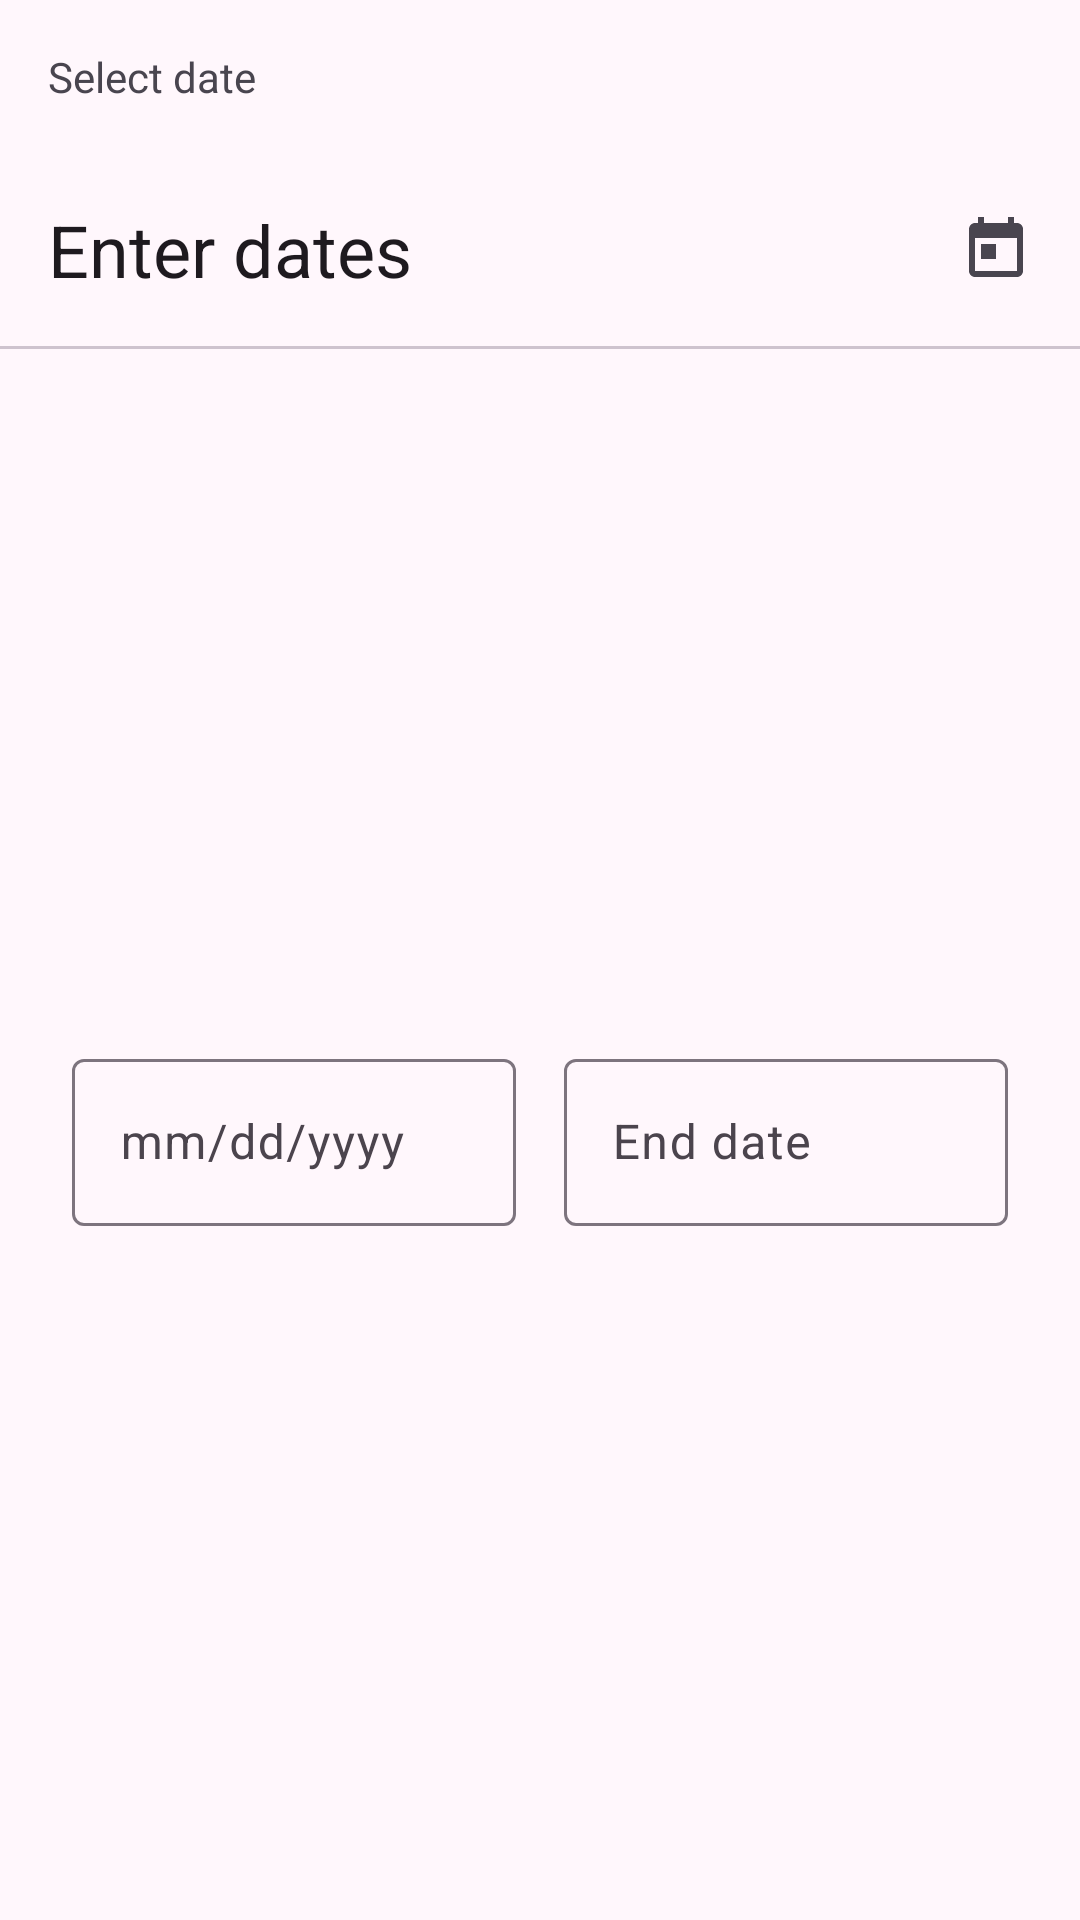

Locate icon controls on the screen. Image size 1080px×1920px, boxes as (x1, y1, x2, y2).
Icon calendar: (969, 217, 1023, 277)
